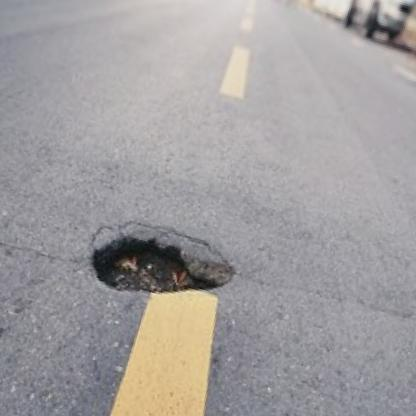pothole: (73, 204, 245, 326)
